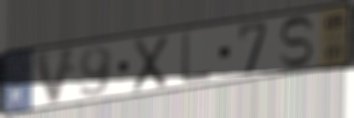7: (236, 21, 268, 76)
9: (76, 44, 117, 98)
L: (179, 30, 214, 87)
S: (277, 15, 317, 70)
V: (32, 45, 80, 108)
X: (131, 33, 171, 94)
